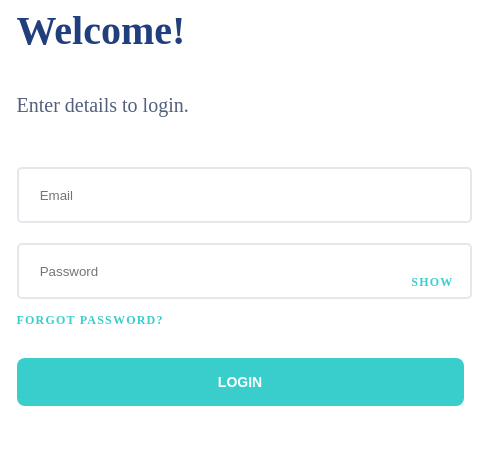
Test: <LoginForm /> › check user is unable to login without entering all credentials
Type "emma@gmail.com" into the field with test id "email". click: (245, 195)
box: [17,167,472,223]
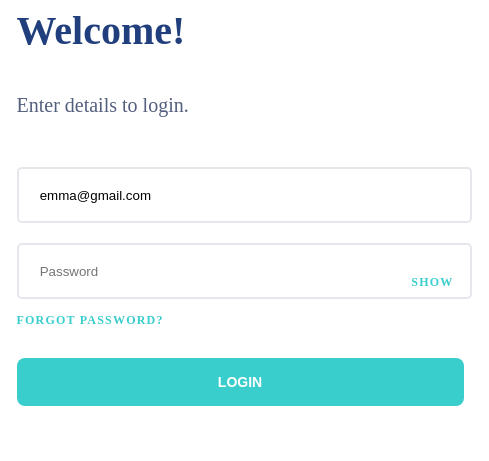
Click the button with test id "login-btn". click: (241, 382)
box: [17,358,464,406]
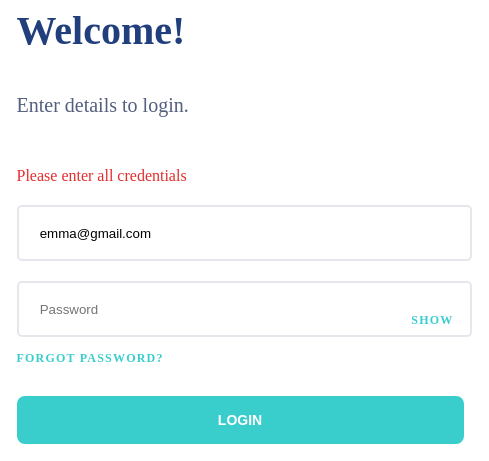
Expected: the text "Please enter all credentials" is shown, [16,167,187,184]
